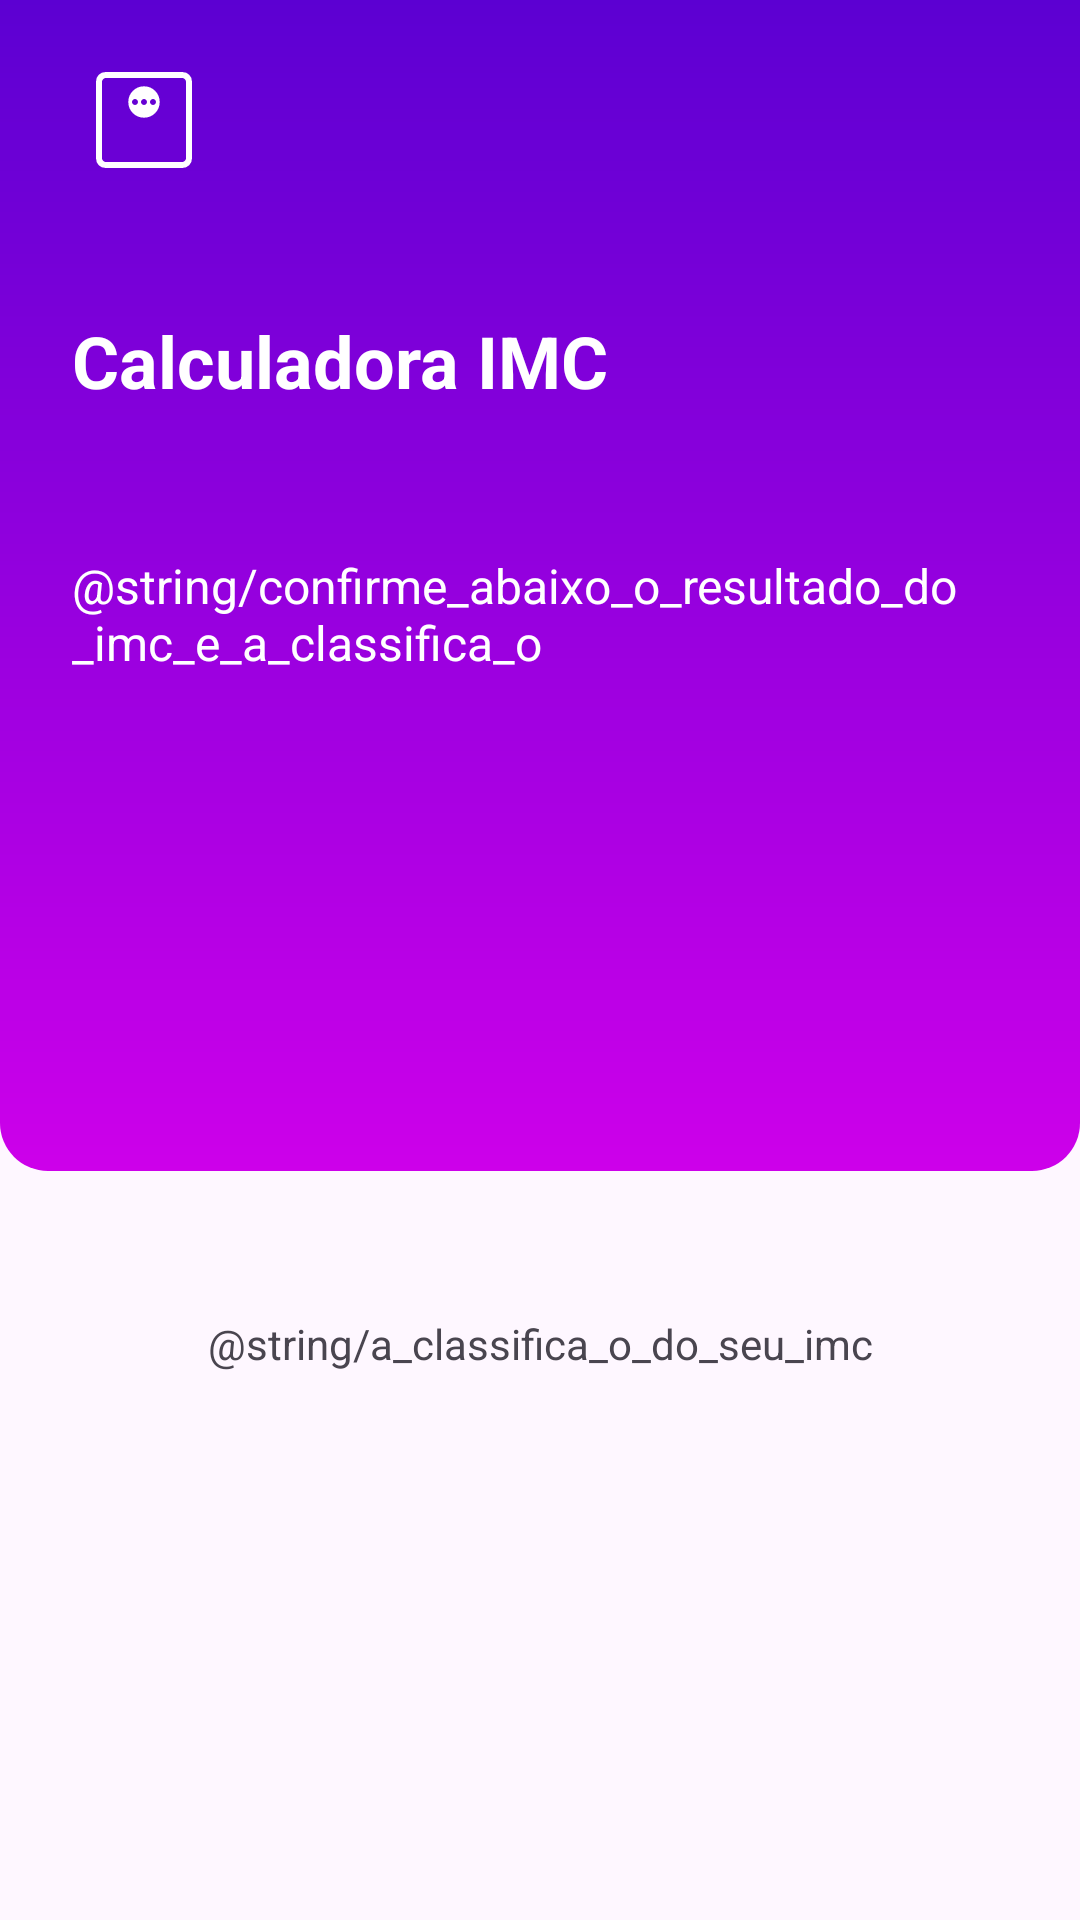

Icons on this 1080w x 1920h Android screen, each with its box as bbox=[x1, y1, x2, y2]:
weight: bbox=[96, 72, 192, 168]
